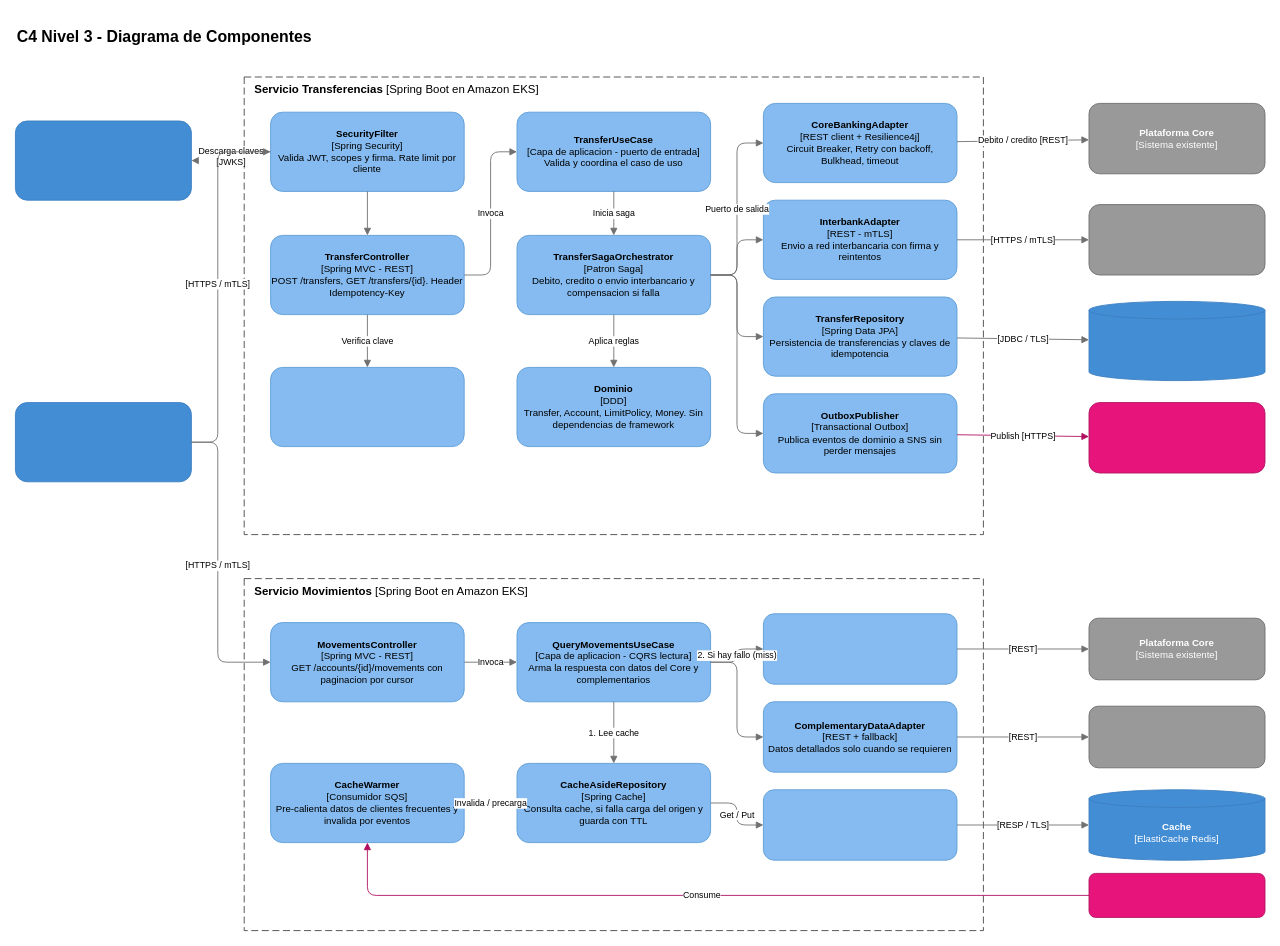
This 1280x946 diagram has some shape labels left out. The centre of each missing label's shape, as x and y in pixels:
API Gateway [Amazon API Gateway + WAF] Enruta y limita trafico: the point at 103,442
BD transaccional [Aurora PostgreSQL]: the point at 1176,341
Bus de eventos [Amazon SNS + SQS]: the point at 1176,437
Cola de eventos [Amazon SQS]: the point at 1176,895
CoreMovementsAdapter [REST + Resilience4j] Circuit Breaker y timeout: the point at 860,648
IdempotencyService [Aplicacion] Evita doble debito ante reintentos del cliente: the point at 367,407
Proveedor de identidad [Keycloak] Publica claves JWKS: the point at 103,160
Red interbancaria [Sistema externo]: the point at 1176,239
RedisAdapter [Lettuce - TLS] Acceso a ElastiCache: the point at 860,824
Sistema complementario [Sistema existente]: the point at 1176,736
